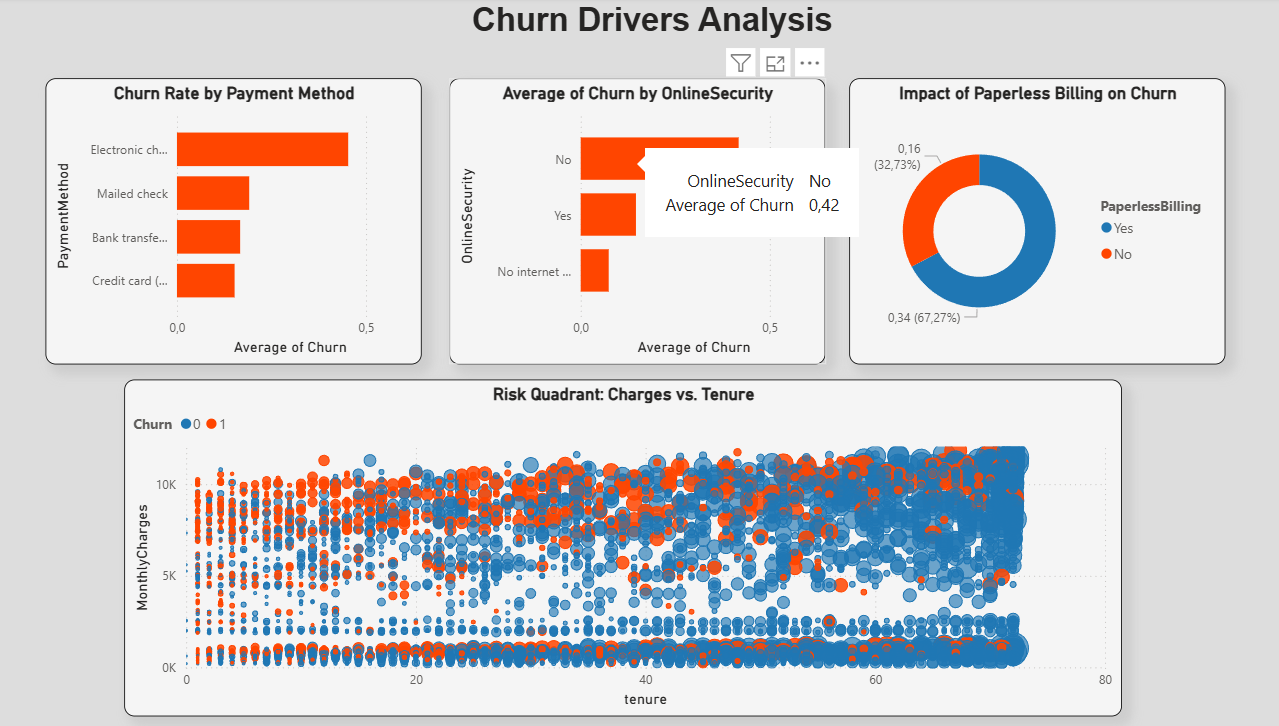

The dashboard page shown, as its layout file describes it:
{"tool":"powerbi","page":{"name":"2. Churn Drivers Analysis","canvas":[1280,720],"ordinal":1},"visuals":[{"type":"barChart","title":"Churn Rate by Payment Method","fields":{"Category":["telco_churn_final_V2.PaymentMethod"],"Y":["telco_churn_final_V2.Churn"]},"box":[46.7,79.6,367.8,279.9],"z":0},{"type":"donutChart","title":"Impact of Paperless Billing on Churn","fields":{"Category":["telco_churn_final_V2.PaperlessBilling"],"Y":["telco_churn_final_V2.Churn"]},"box":[832.9,79.6,367.8,279.9],"z":1000},{"type":"clusteredBarChart","fields":{"Category":["telco_churn_final_V2.OnlineSecurity"],"Y":["telco_churn_final_V2.Churn"]},"box":[441.9,79.6,367.8,279.9],"z":2000},{"type":"scatterChart","title":"Risk Quadrant: Charges vs. Tenure","fields":{"X":["telco_churn_final_V2.tenure"],"Y":["telco_churn_final_V2.MonthlyCharges"],"Size":["telco_churn_final_V2.TotalCharges"],"Series":["telco_churn_final_V2.Churn"]},"box":[123.5,374.6,975.6,329.3],"z":3000},{"type":"textbox","box":[0,0,1280.3,61.7],"z":4000}]}

Visuals, with their boxes in screenshot pixels (x1, y1, x2, y2), scaled from the page's 1280x720 canvas onto the 1279x726 screenshot:
"Churn Rate by Payment Method" barChart: 47,80,414,362
"Impact of Paperless Billing on Churn" donutChart: 832,80,1200,362
clusteredBarChart - telco_churn_final_V2.OnlineSecurity x telco_churn_final_V2.Churn: 442,80,809,362
"Risk Quadrant: Charges vs. Tenure" scatterChart: 123,378,1098,710
textbox: 0,0,1278,62
